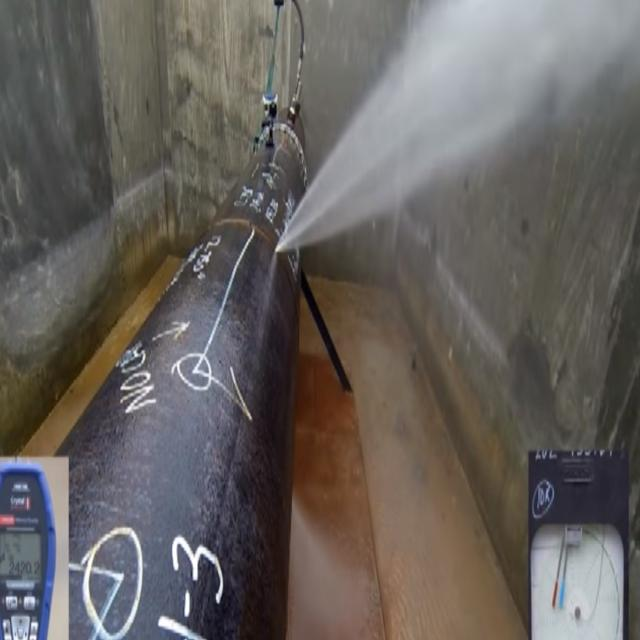leak: (275, 0, 640, 260)
